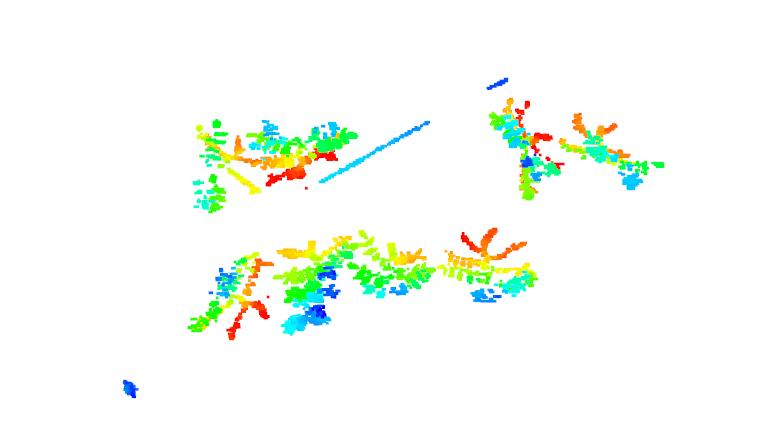chickpea: (560, 109, 664, 194), (183, 250, 277, 343), (485, 93, 565, 197), (439, 225, 540, 305), (248, 114, 357, 188), (278, 230, 349, 335), (344, 228, 436, 300), (190, 118, 260, 210)
